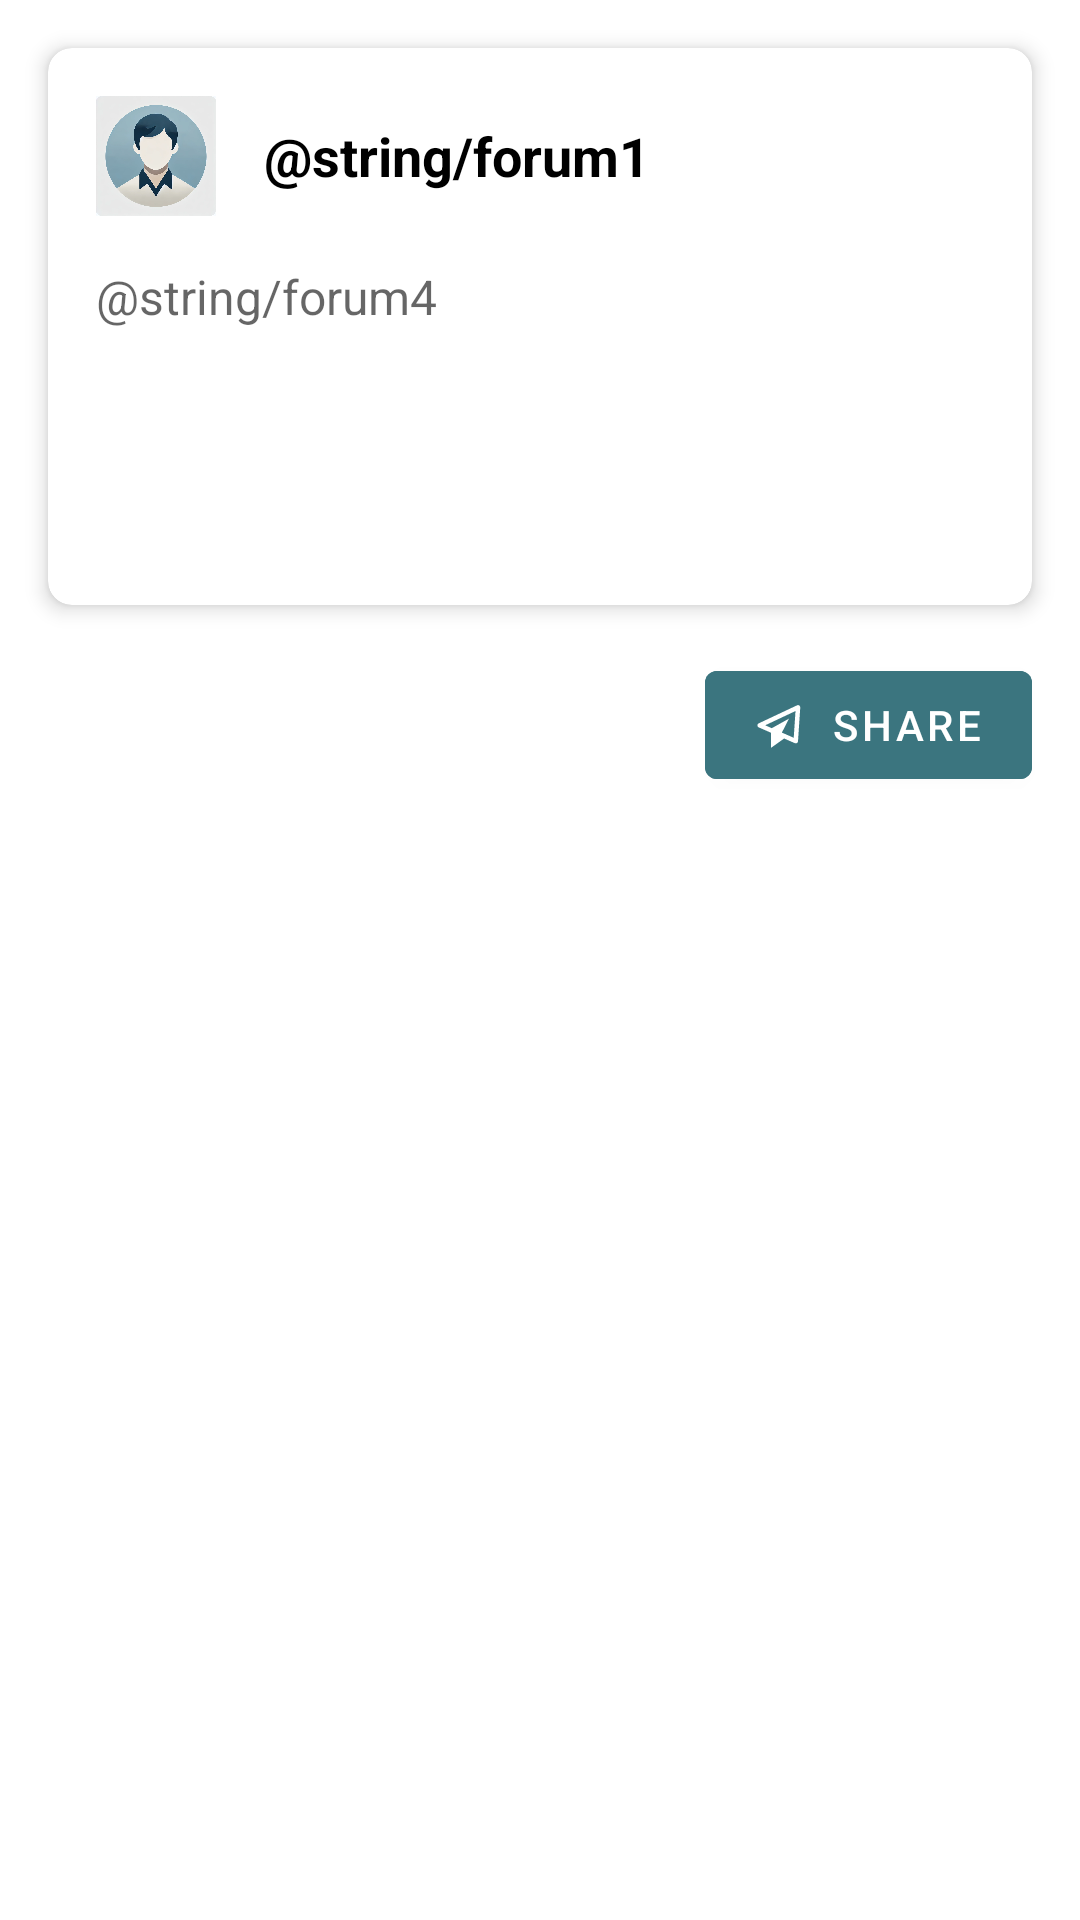

Icons on this 1080*1920 Android screen, each with its box as box=[x1, y1, x2, y2]:
user: box=[96, 96, 214, 212]
